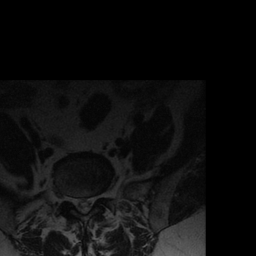CCS_normal: (80, 190, 87, 218)
LFS_severe_stenosis: (94, 185, 101, 206)
LLS_normal: (87, 191, 94, 214)
RFS_stenosis: (65, 188, 73, 207)
RLS_normal: (73, 192, 80, 214)
